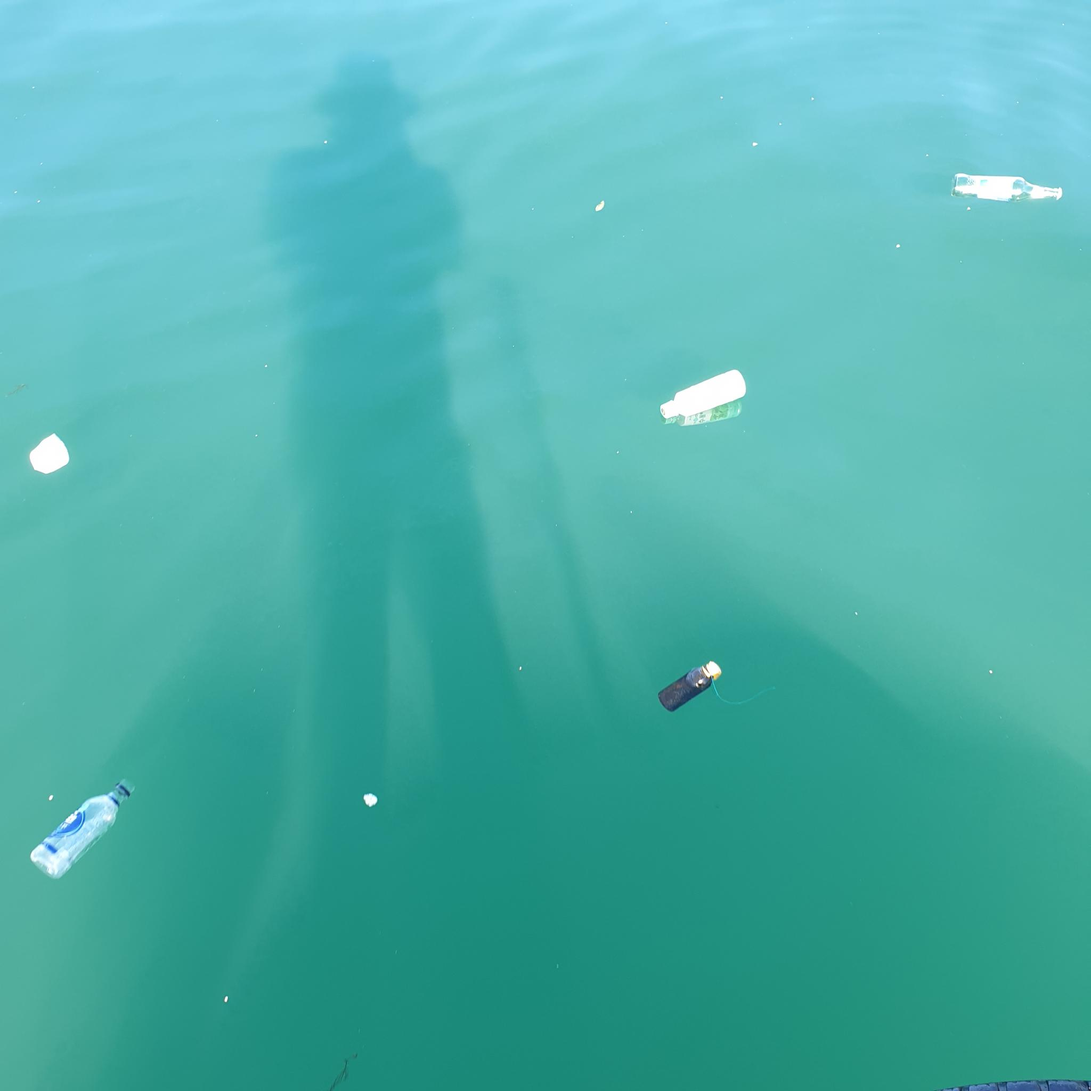sampah_terapung: (31, 779, 135, 881), (661, 370, 747, 420), (951, 174, 1063, 203), (658, 662, 722, 712), (364, 793, 378, 808)
